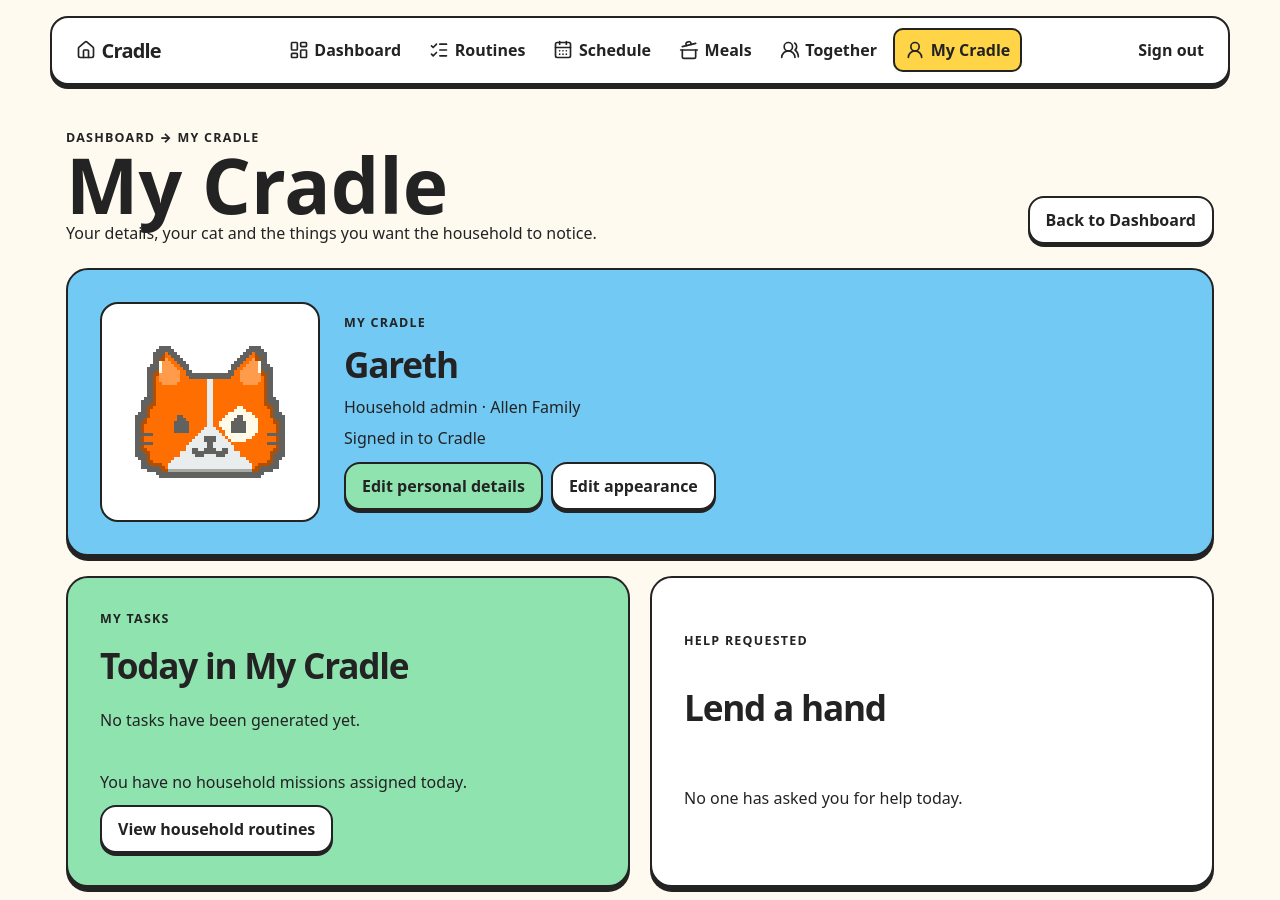
Test: Phase 4.3 household experience › loads the member-owned cat without a separate name and refreshes Dashboard after saving appearance
Check: the heading "Gareth" is shown, box [344,340,458,388]
Click the button "Edit appearance": coordinates (633, 486) [551,462,716,510]
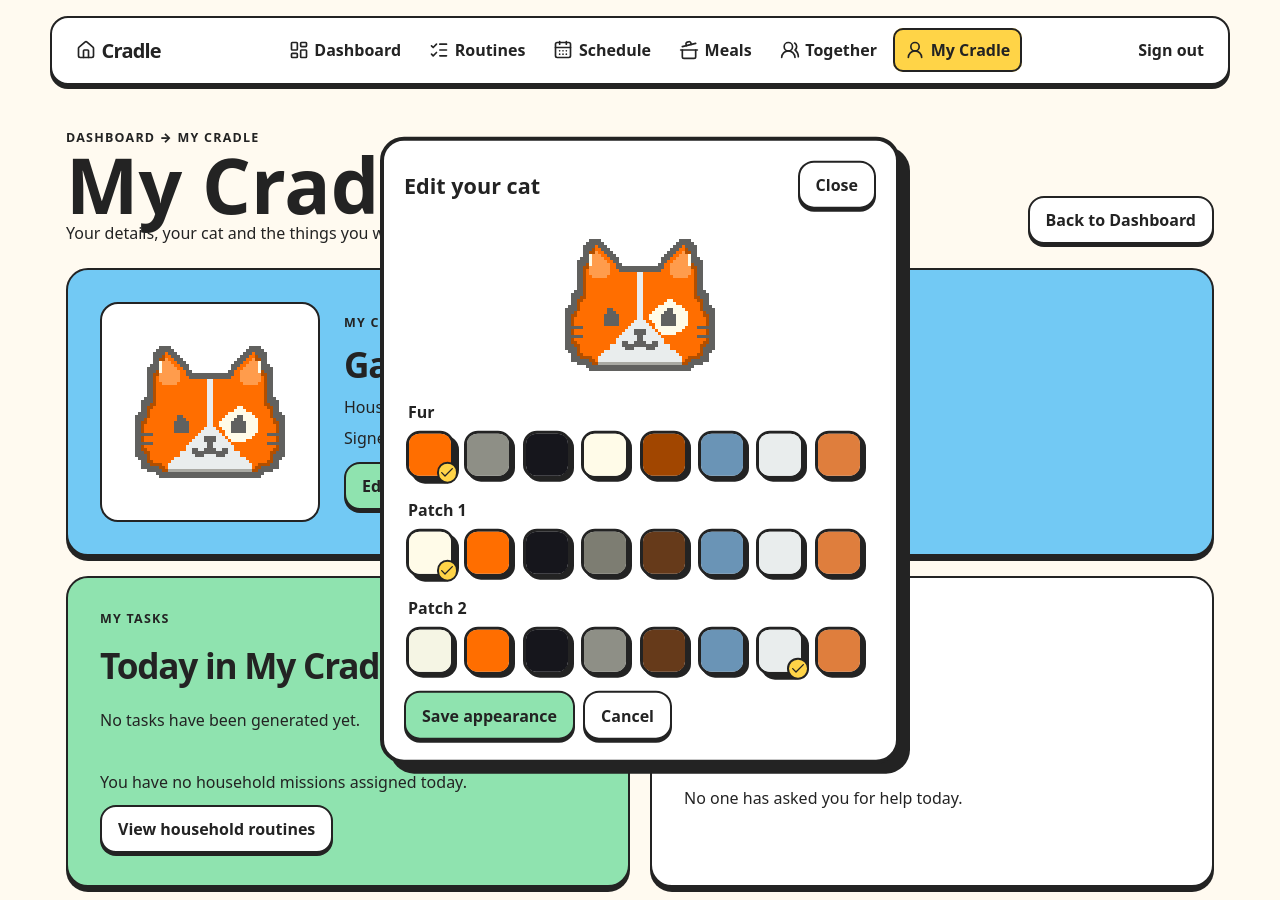
Click the radio button named "Fur: Grey": coordinates (488, 455) [464,431,512,479]
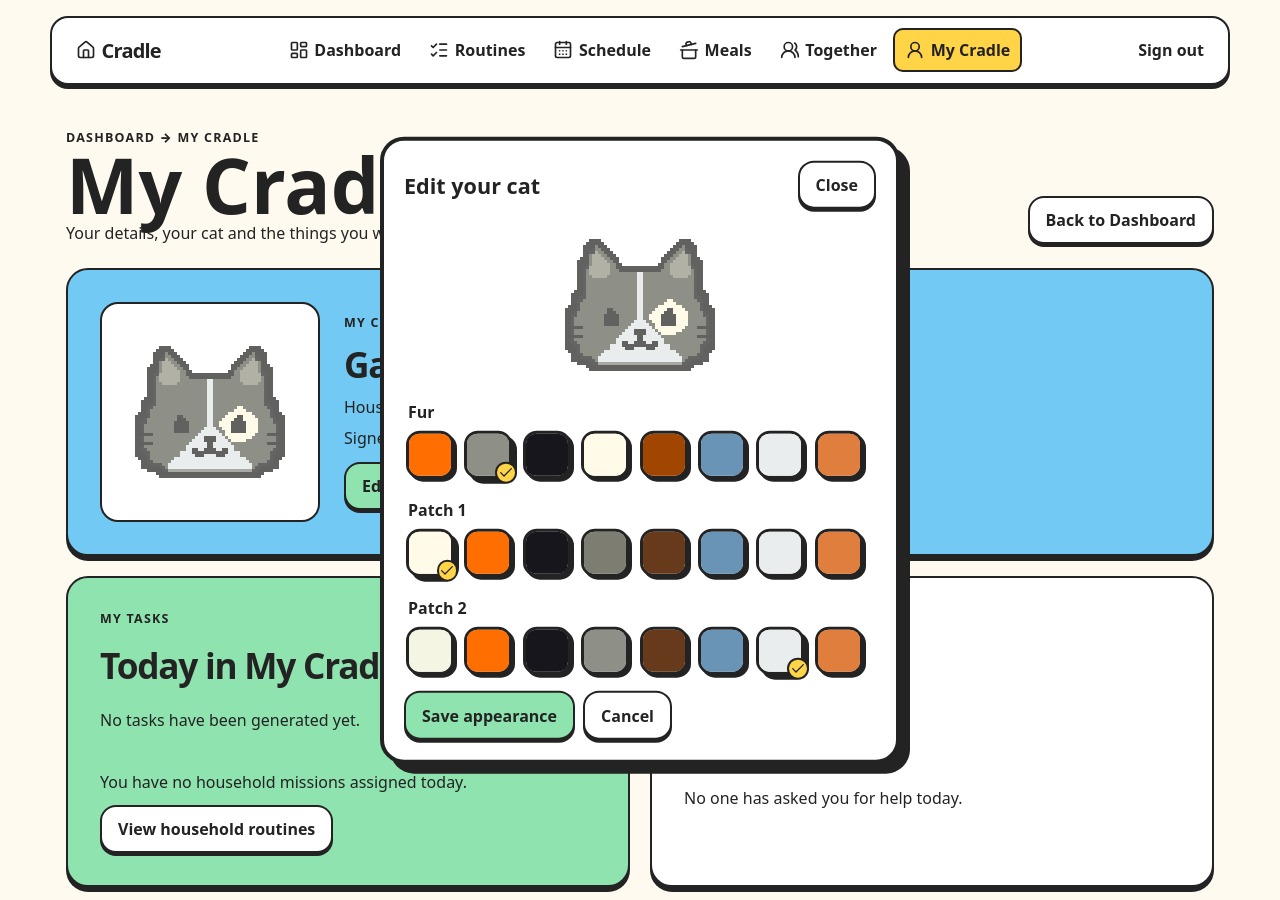
Check: the picture named "grey coat" next to "Gareth" is shown, box [102,304,318,520]
Click the button "Save appearance": coordinates (490, 715) [404,691,575,739]
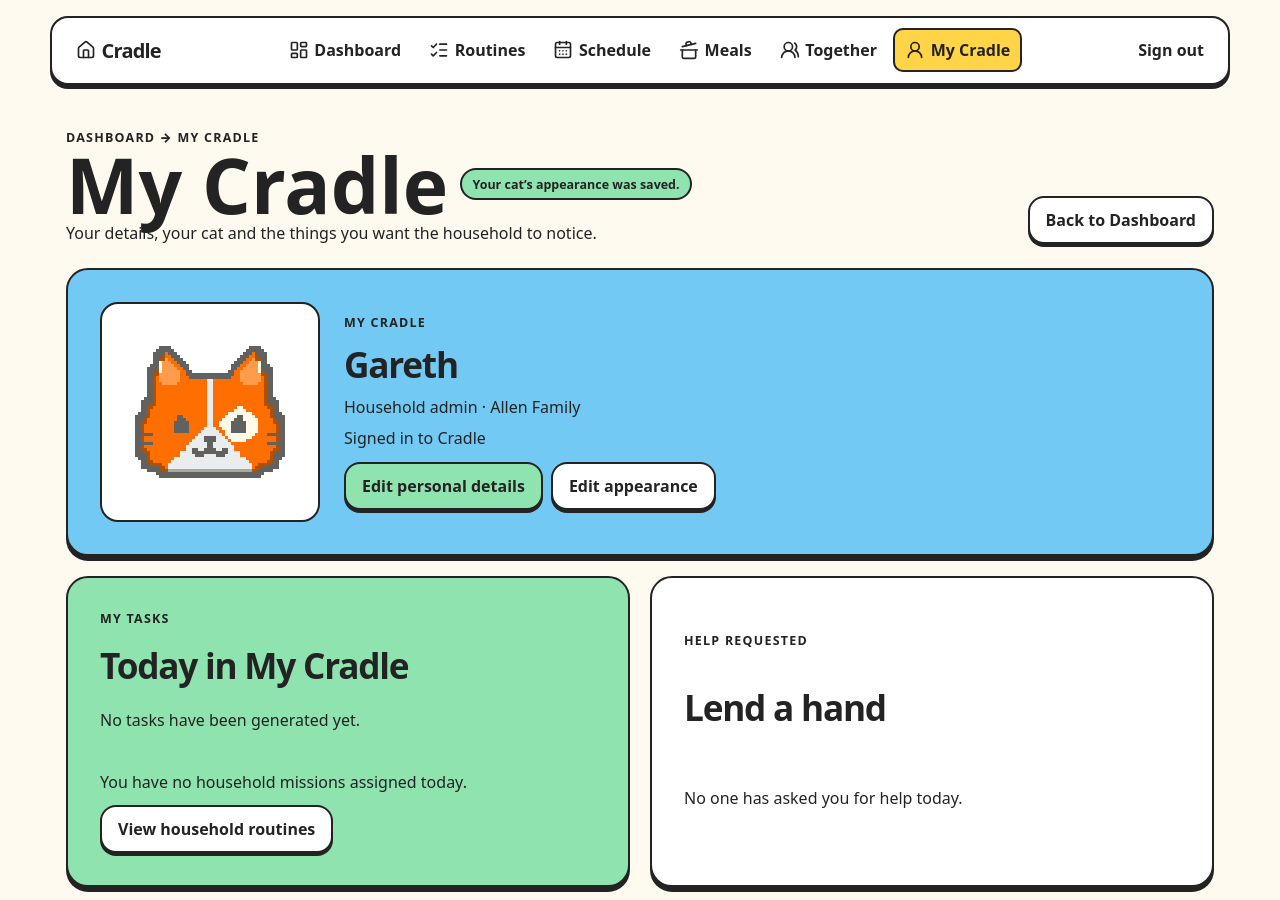
Check: the text "Your cat’s appearance was saved." is shown, box [460,168,692,200]
